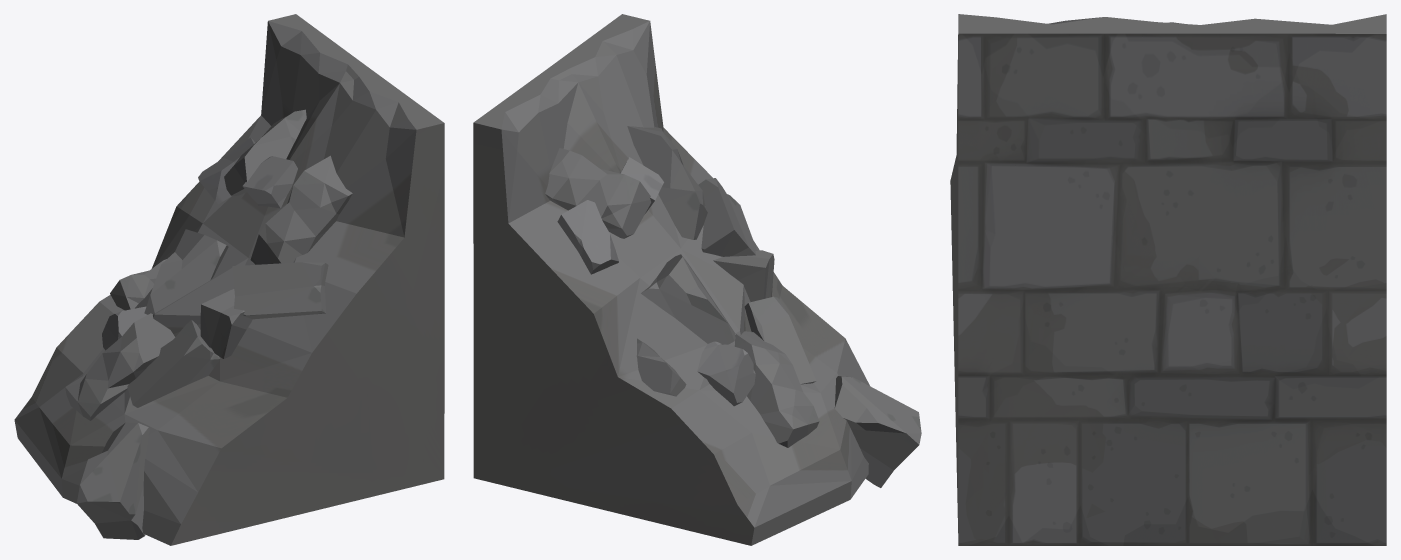
File: SM_Bld_Wall_L_Rubble_01.fbx
3 views of the same model, side by side, from view 1: azimuth 30°, elevation 25°; view 2: azimuth 150°, elevation 25°; view 3: azimuth 270°, elevation 25° (orthographic). The views are drawn at different scales.
Visible parts, largest first — view 1: SM_Bld_Wall_L_Rubble_01; view 2: SM_Bld_Wall_L_Rubble_01; view 3: SM_Bld_Wall_L_Rubble_01.
Part boxes in pixels (left/top/right/bottom): SM_Bld_Wall_L_Rubble_01: left=14, top=14, right=444, bottom=545; SM_Bld_Wall_L_Rubble_01: left=473, top=14, right=921, bottom=545; SM_Bld_Wall_L_Rubble_01: left=950, top=14, right=1386, bottom=545.
Size of the model in its own units: 588 by 628 by 464.
1 material, 1 textured.
